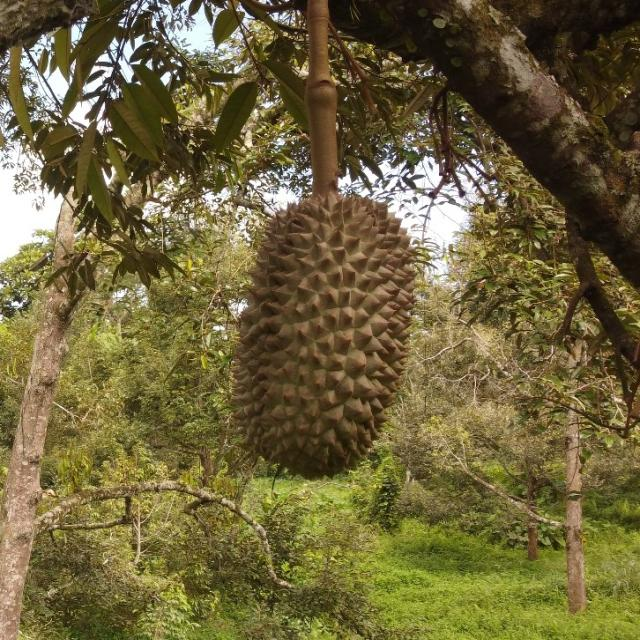mature: (232, 194, 416, 475)
